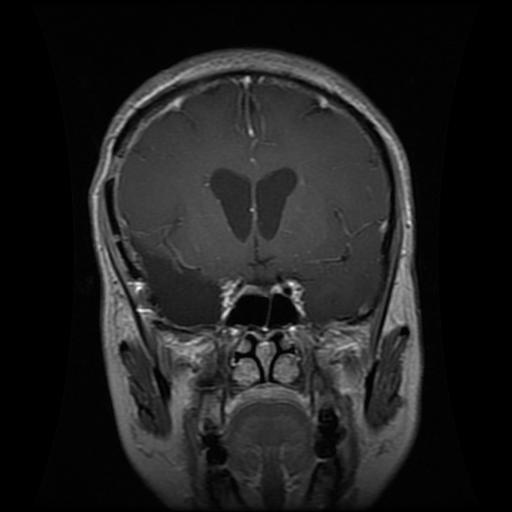Gliomia_tumour: (129, 233, 221, 323)
